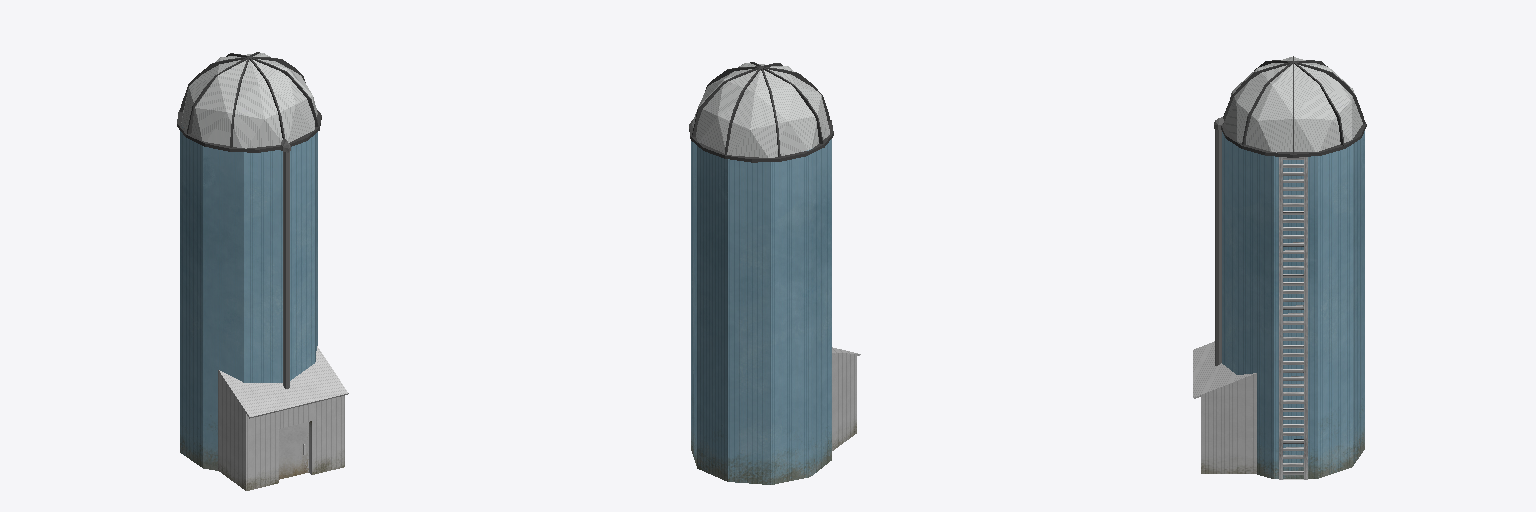
3 renders of one model, left to right at view 1: azimuth 30°, elevation 25°; view 2: azimuth 150°, elevation 25°; view 3: azimuth 270°, elevation 25°, orthographic.
Visible parts, largest first — view 1: Cube.001_Cube.000; view 2: Cube.001_Cube.000; view 3: Cube.001_Cube.000.
Part boxes in pixels (x1,y1,x2,y2): Cube.001_Cube.000: (177, 52, 348, 490); Cube.001_Cube.000: (689, 62, 860, 484); Cube.001_Cube.000: (1193, 56, 1366, 479).
Size of the model in its own units: 41 by 120 by 48.53.
Materials: 1 (1 with a texture image).